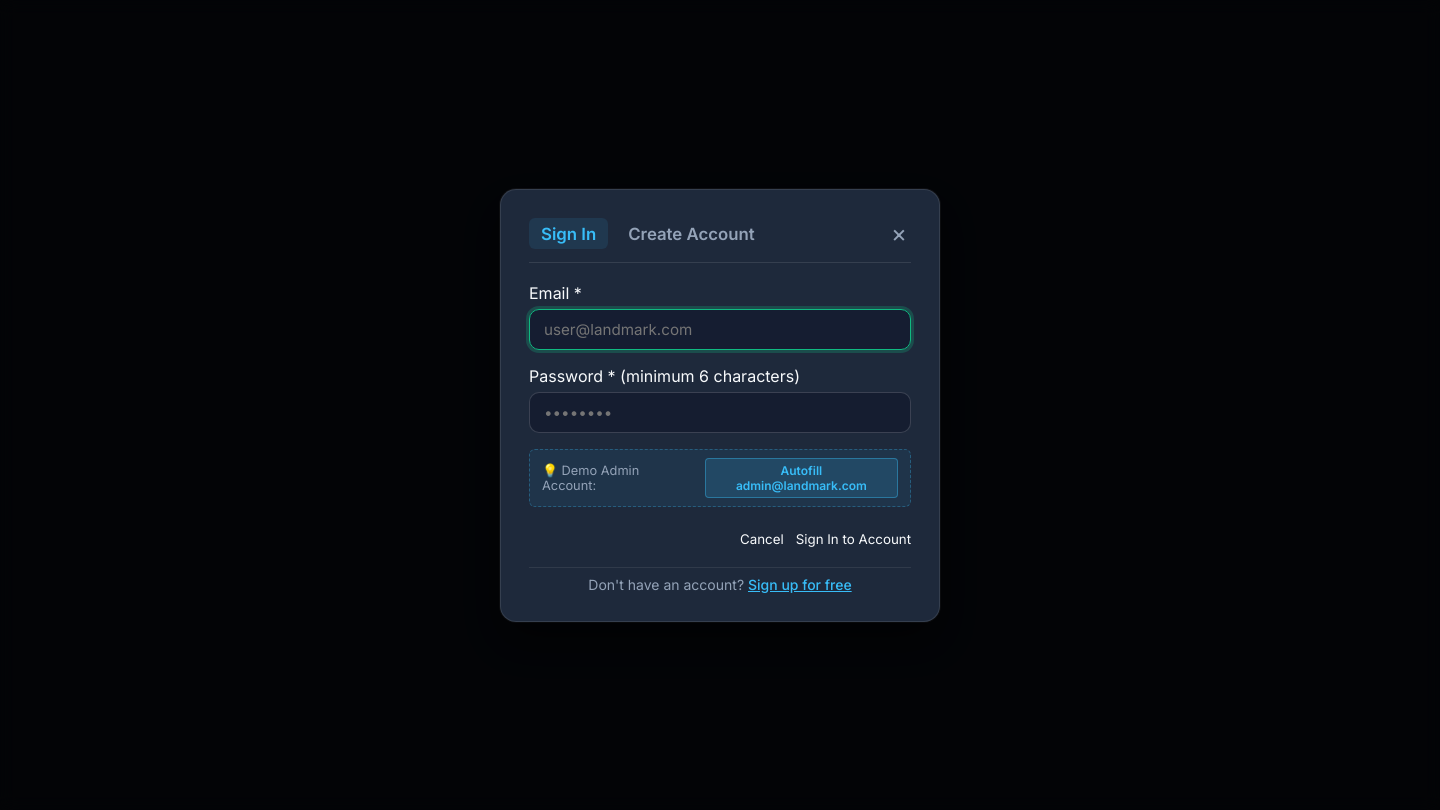
Test: AuthModal Component › displays error message when login fails
Type "ana@landmark.com" into the field labelled "Email *".
click(720, 329); type("ana@landmark.com")  # box [529, 308, 911, 350]
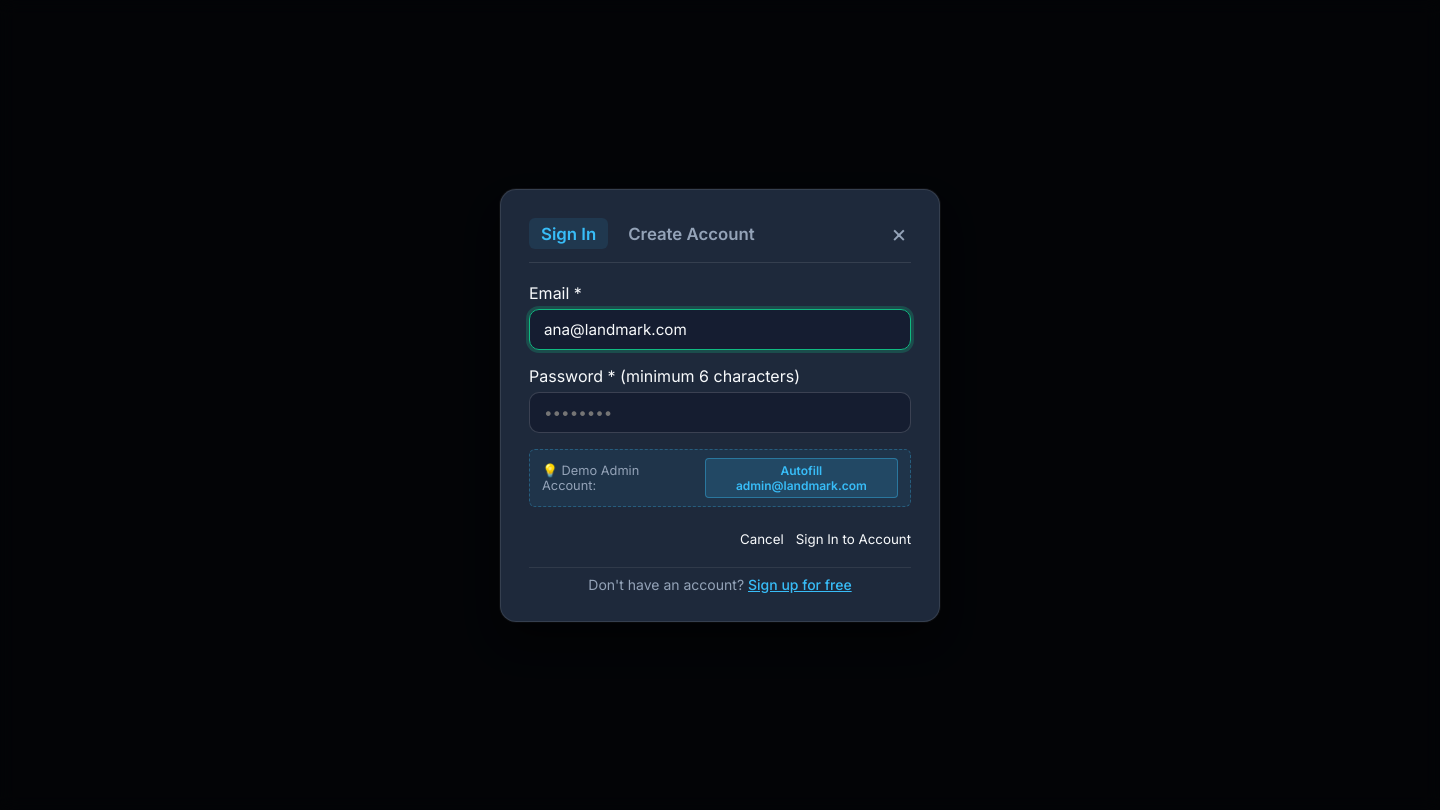
Type "wrongpassword" into the password field labelled "Password * (minimum 6 characters)".
click(720, 412); type("wrongpassword")  # box [529, 392, 911, 432]
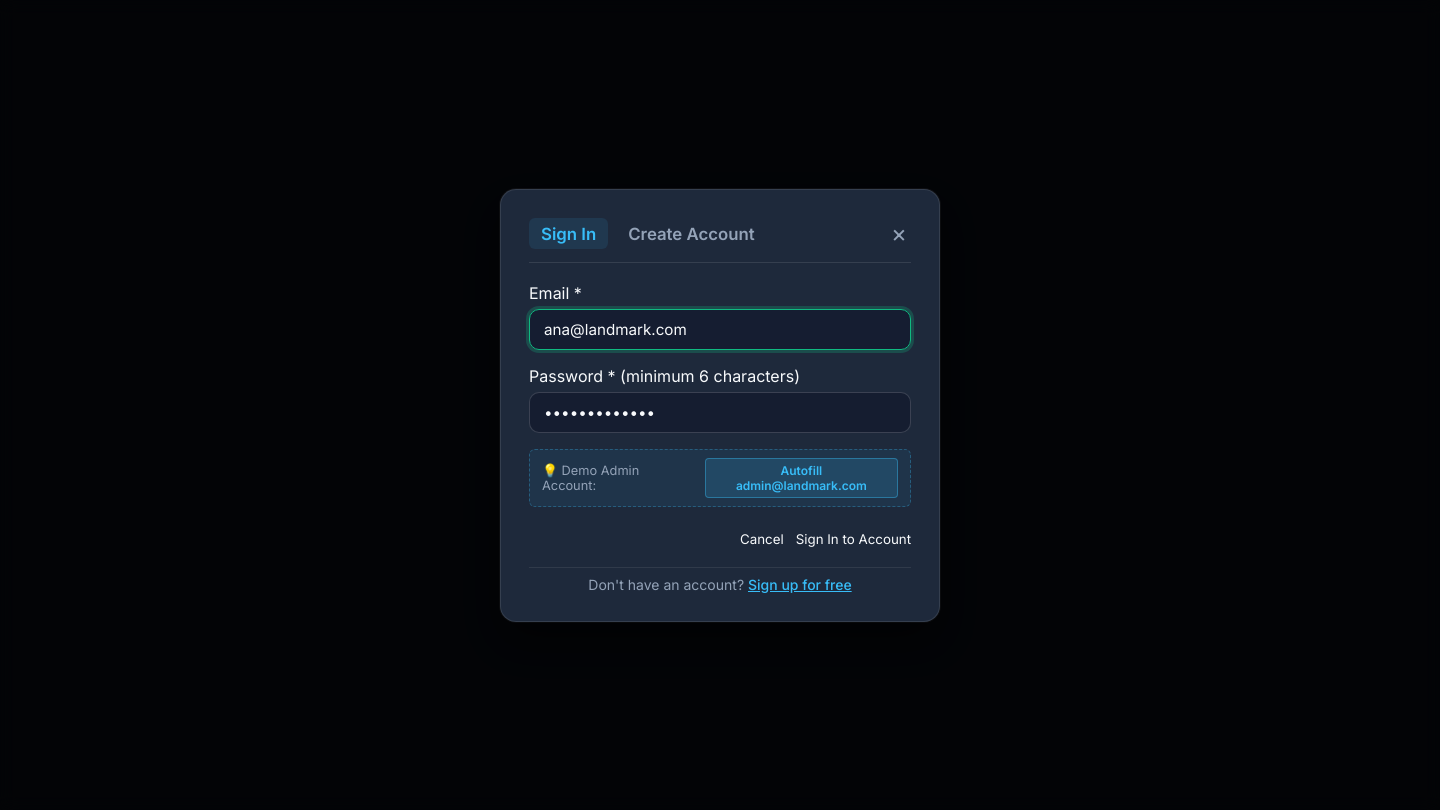
Click the button "Sign In to Account".
click(853, 538)  # box [796, 530, 911, 546]
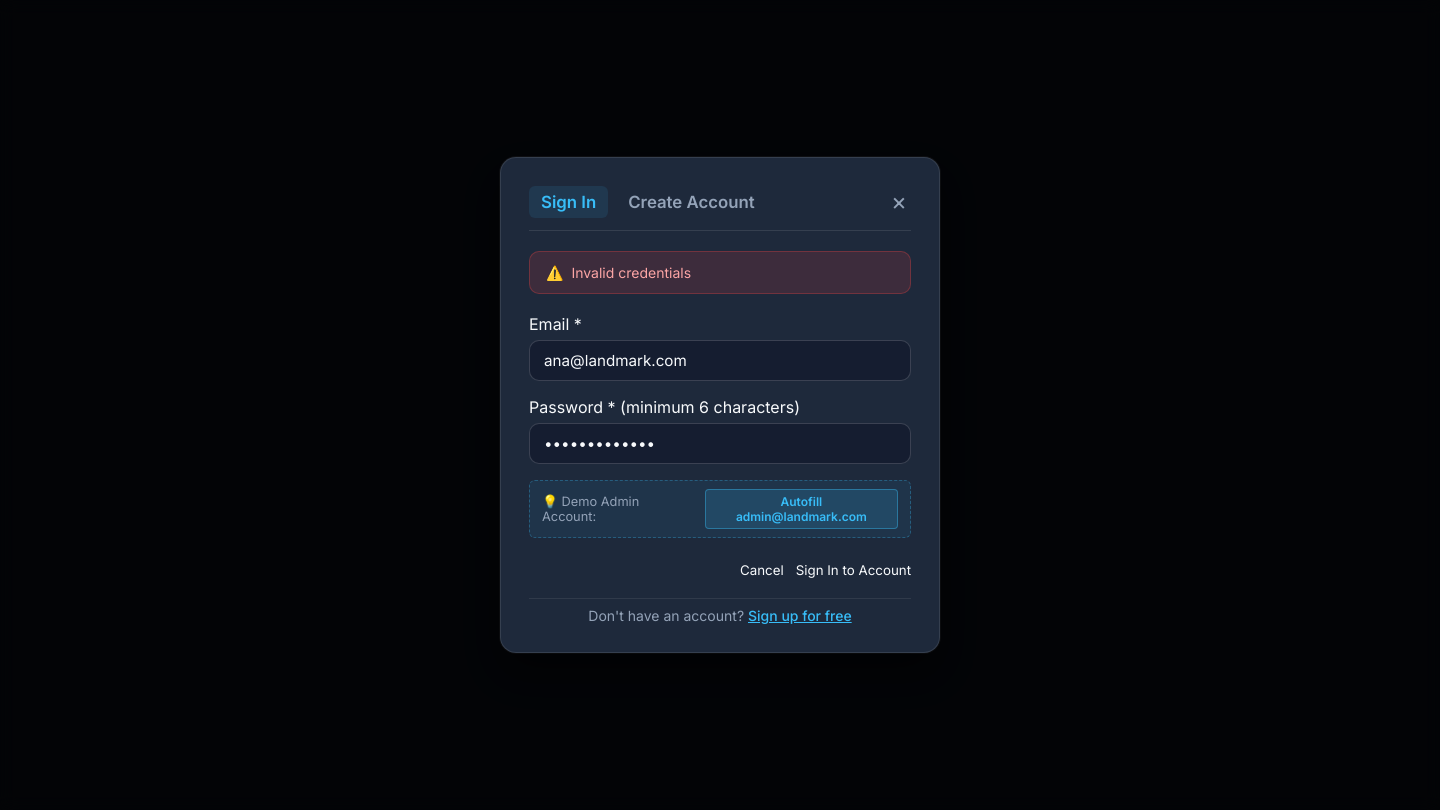
Result: the text "Invalid credentials" is shown at [572, 264, 691, 281]
